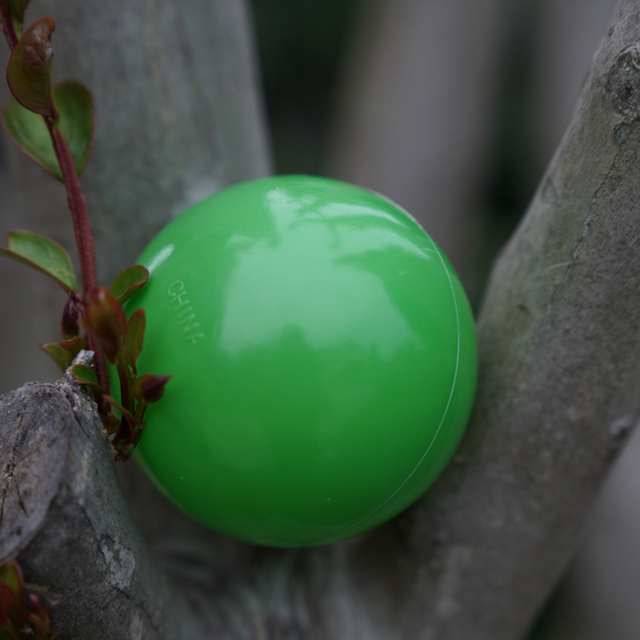Ball: (95, 175, 482, 544)
